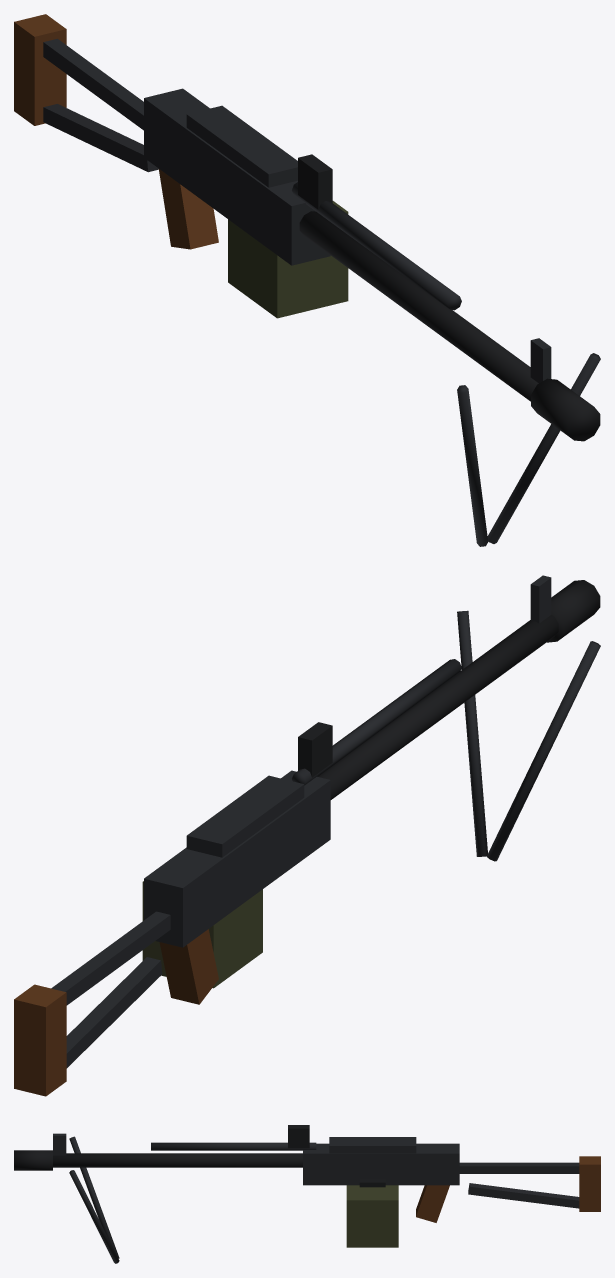
Rendered from wpn_lmg.glb.
The picture shows the model from 3 angles, top to bottom: view 1: azimuth 30°, elevation 25°; view 2: azimuth 150°, elevation 25°; view 3: azimuth 270°, elevation 25°; orthographic projection. The views are drawn at different scales.
Visible parts, largest first — view 1: Weapon; view 2: Weapon; view 3: Weapon.
Boxes of the visible parts, x1,y1,x2,y2 form: Weapon: (14,14,600,546); Weapon: (14,575,600,1096); Weapon: (14,1125,600,1263).
Bounding box in the file's own units: 0.2097 × 0.3421 × 1.35.
